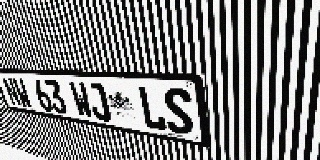3: (44, 80, 68, 115)
6: (31, 79, 55, 112)
J: (85, 82, 112, 122)
L: (137, 86, 168, 132)
N: (1, 77, 22, 107)
S: (162, 87, 194, 136)
W: (68, 81, 94, 119), (11, 78, 33, 109)
